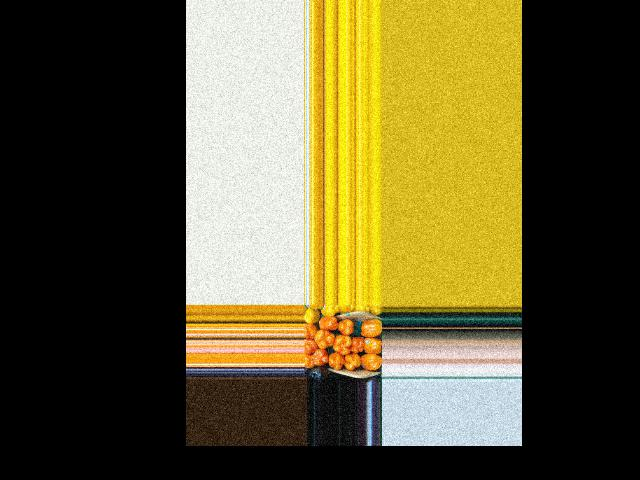bell_pepper: (320, 306, 342, 315)
